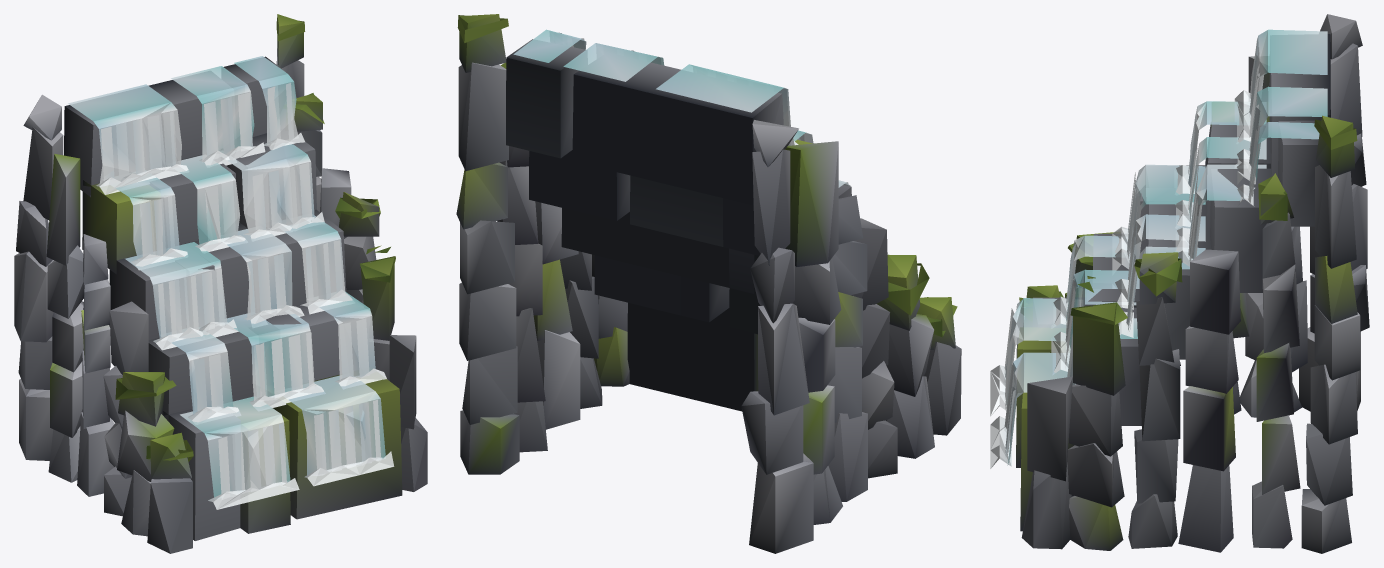
Rendered from wf_cascade_steps-lod1.glb.
The picture shows the model from 3 angles, left to right: view 1: azimuth 30°, elevation 25°; view 2: azimuth 150°, elevation 25°; view 3: azimuth 270°, elevation 25°; orthographic projection. The views are drawn at different scales.
Parts seen in each view (by area): view 1: wf_cascade_steps; view 2: wf_cascade_steps; view 3: wf_cascade_steps.
Boxes of the visible parts, box(x1,y1,x2,y2) form: wf_cascade_steps: box(14, 14, 427, 553); wf_cascade_steps: box(456, 14, 961, 553); wf_cascade_steps: box(990, 14, 1369, 553).
Size of the model in its own units: 12.4 by 15.2 by 12.42.
